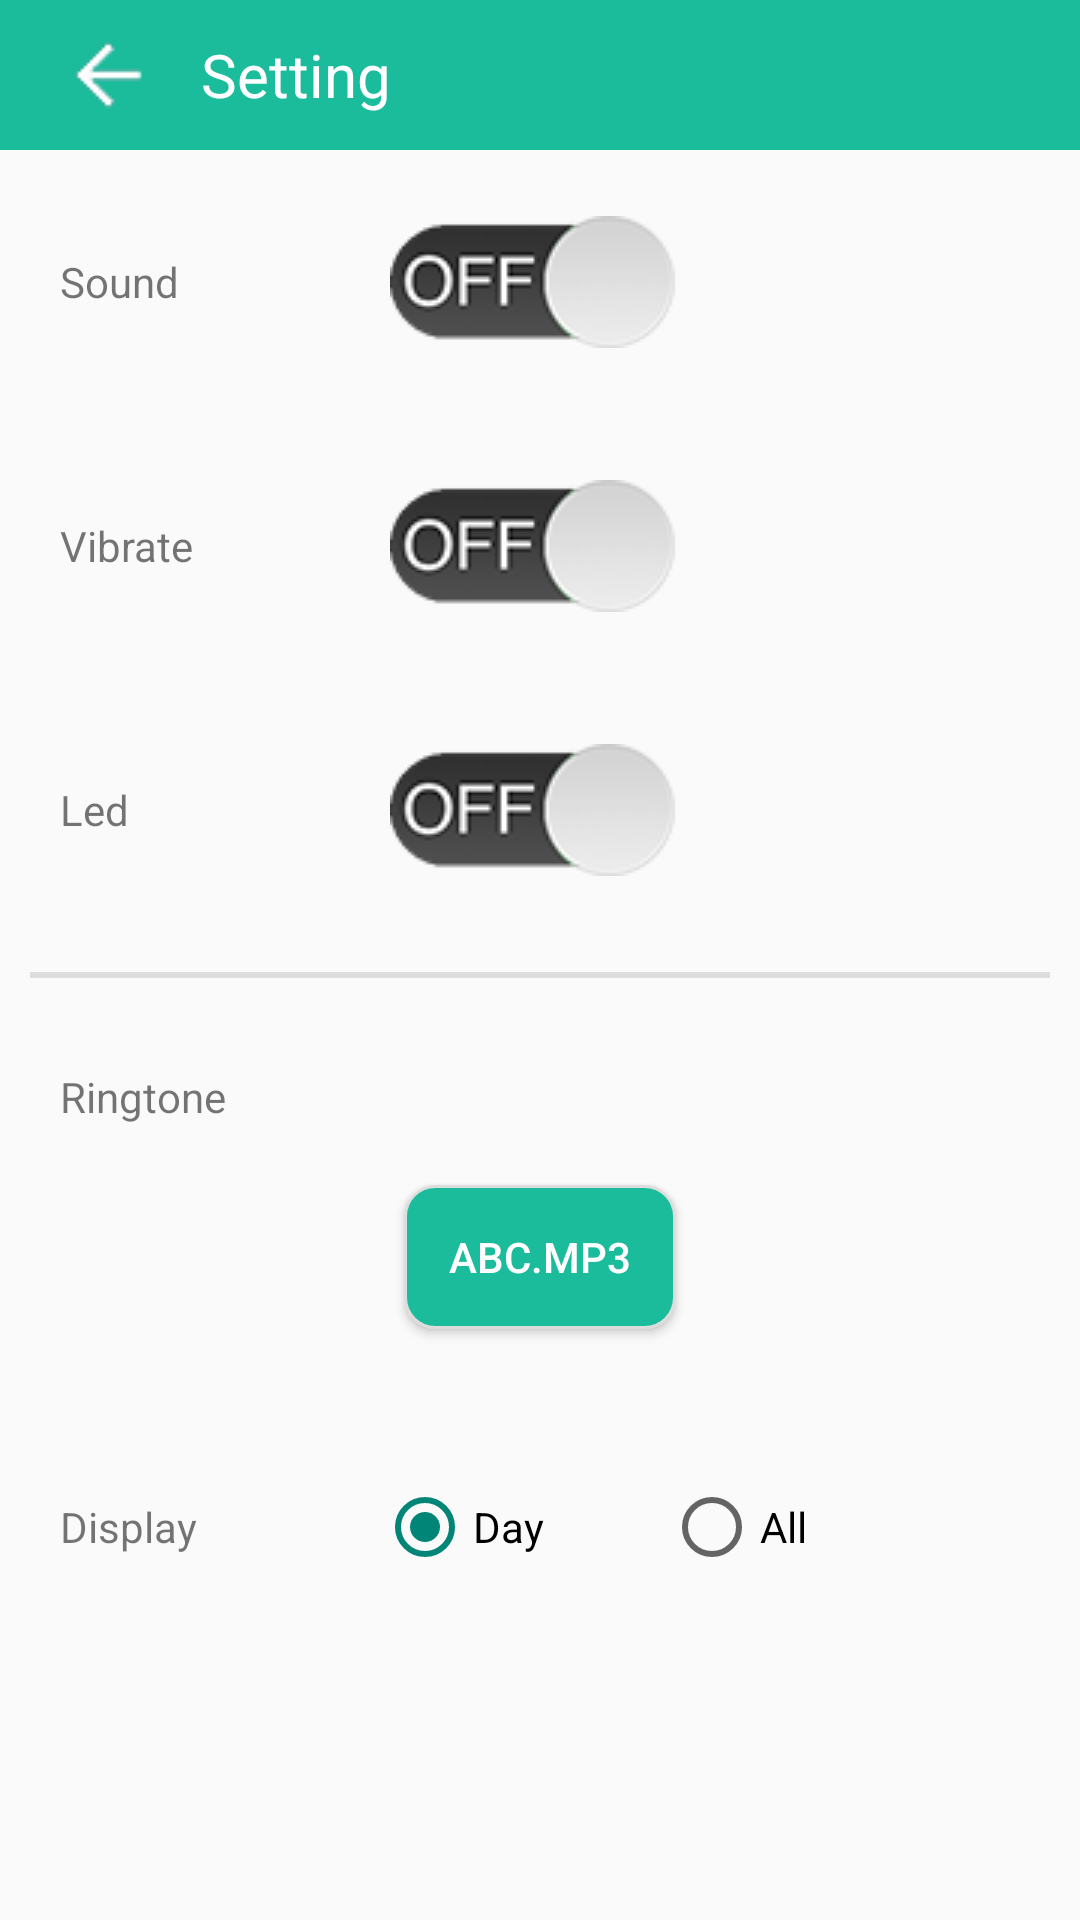

Where to tap for icons on this 1080w x 1920h app screen, as (x=x, y=y):
back: (x=108, y=75)
